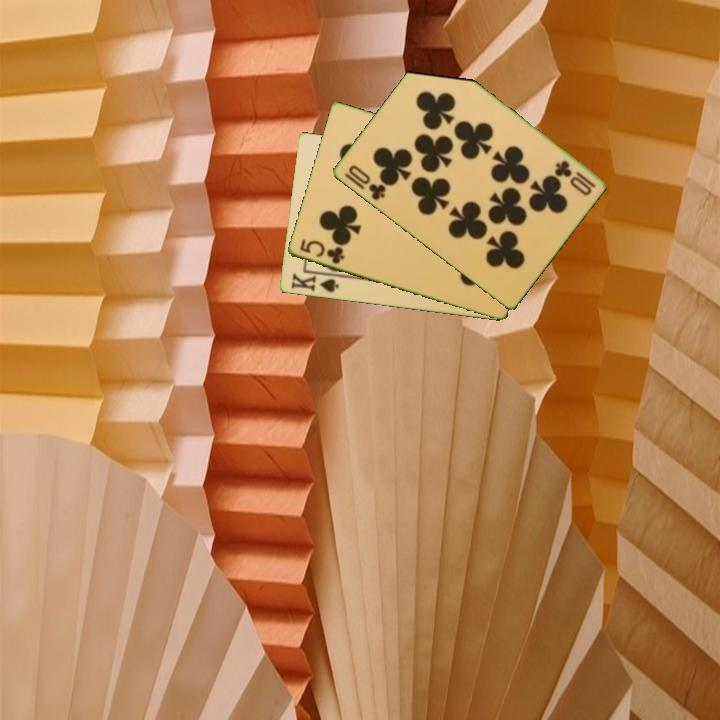10c: (340, 161, 389, 203), (551, 157, 598, 198)
5c: (296, 236, 347, 267)
Ks: (288, 269, 342, 296)
